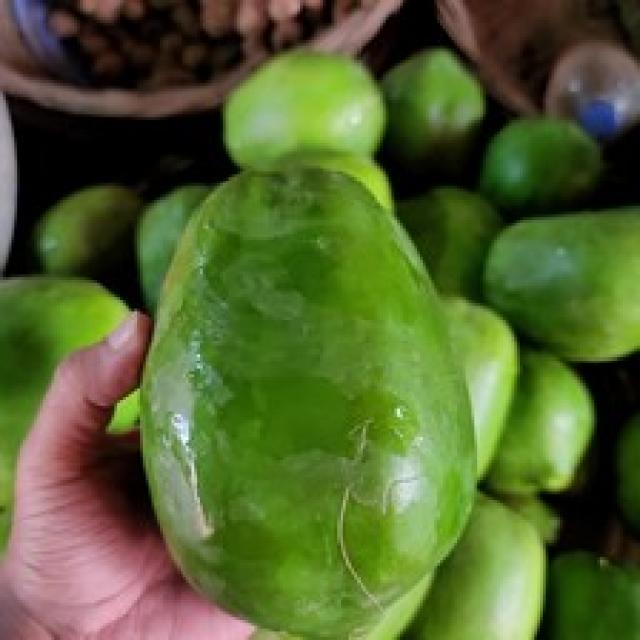Pepaya unrippen: (131, 155, 482, 636)
